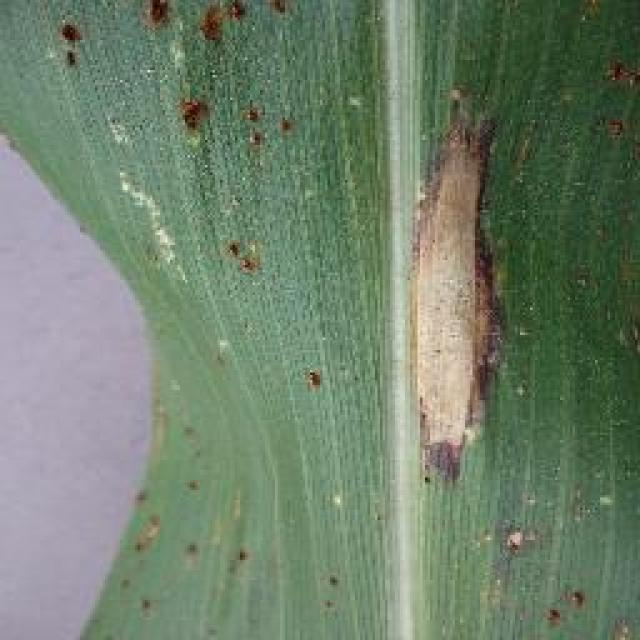Corn___Northern_Leaf_Blight: (337, 5, 640, 565)
